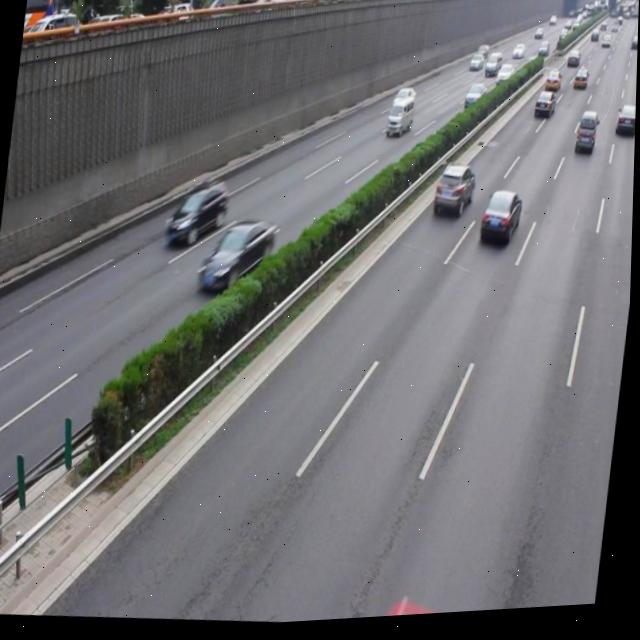car: (198, 214, 277, 297), (164, 176, 231, 254), (478, 191, 524, 251), (432, 163, 477, 224)
truck: (385, 98, 415, 145), (574, 115, 599, 165)
